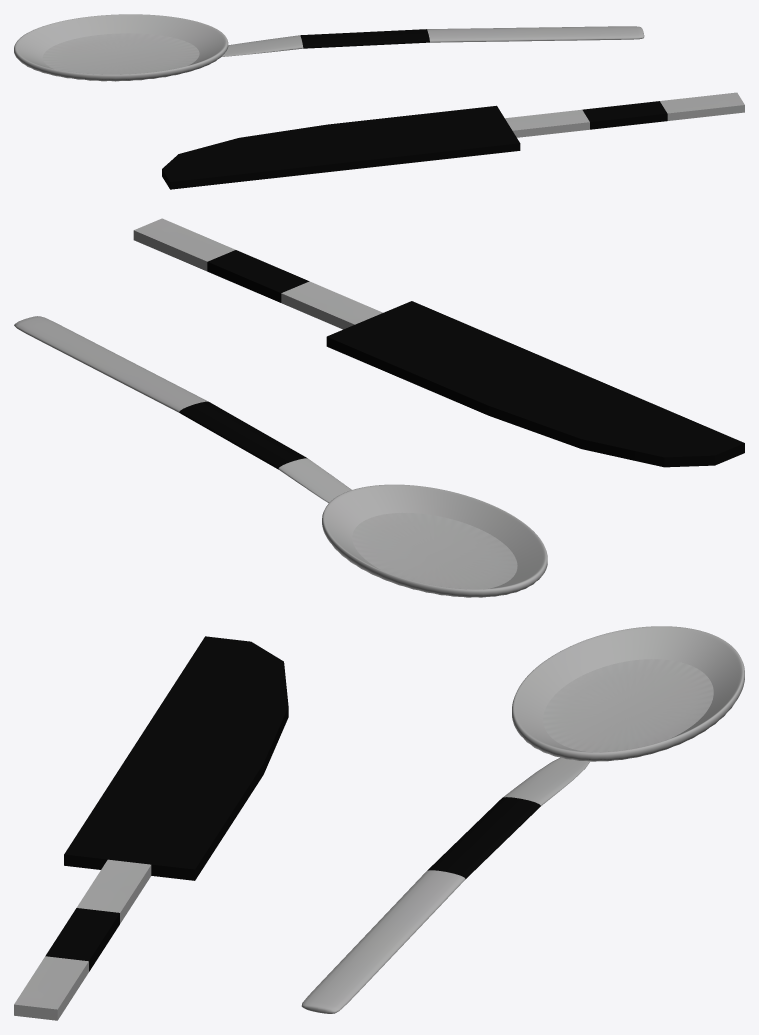
The model's file is Spoon and Fork.fbx.
3 renders of one model, top to bottom at view 1: azimuth 30°, elevation 25°; view 2: azimuth 150°, elevation 25°; view 3: azimuth 270°, elevation 25°, orthographic. The views are drawn at different scales.
Visible parts, largest first — view 1: Plane.007, Circle.015, Plane.006, Circle.001, Plane.094; view 2: Plane.007, Circle.015, Plane.006, Circle.001, Plane.094; view 3: Circle.015, Plane.007, Plane.006, Circle.001, Plane.094.
Part boxes in pixels (bbox=[...]): Plane.007: bbox=[162, 105, 520, 189]; Circle.015: bbox=[14, 14, 644, 81]; Plane.006: bbox=[505, 92, 744, 137]; Circle.001: bbox=[300, 29, 429, 48]; Plane.094: bbox=[582, 101, 667, 129]; Plane.007: bbox=[326, 301, 744, 467]; Circle.015: bbox=[14, 316, 547, 597]; Plane.006: bbox=[133, 218, 382, 329]; Circle.001: bbox=[179, 401, 307, 469]; Plane.094: bbox=[207, 250, 309, 302]; Circle.015: bbox=[301, 626, 744, 1013]; Plane.007: bbox=[64, 636, 288, 880]; Plane.006: bbox=[14, 859, 151, 1020]; Circle.001: bbox=[427, 797, 540, 878]; Plane.094: bbox=[45, 908, 119, 971].
Bounding box in the file's own units: 1245 × 40.36 × 1031.
2 materials, 1 textured.
